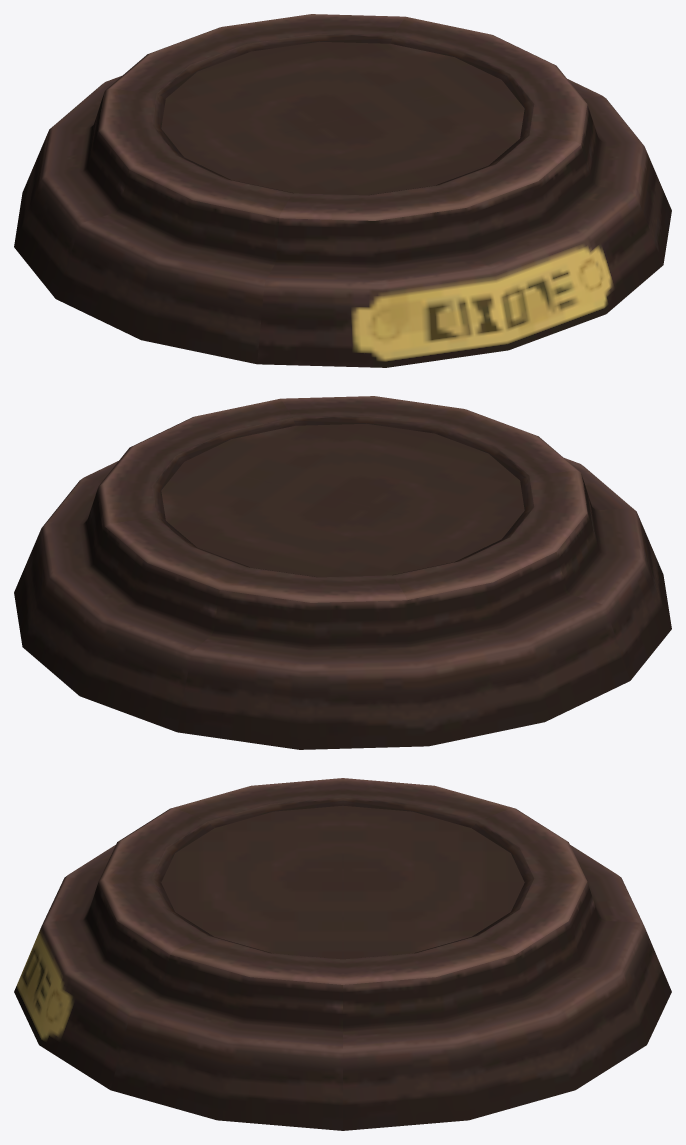
File: Pedestal.obj
3 renders of one model, top to bottom at view 1: azimuth 30°, elevation 25°; view 2: azimuth 150°, elevation 25°; view 3: azimuth 270°, elevation 25°, orthographic.
Visible parts, largest first — view 1: Pedestal__MI_Pedestal_01; view 2: Pedestal__MI_Pedestal_01; view 3: Pedestal__MI_Pedestal_01.
Part boxes in pixels (bbox=[...]): Pedestal__MI_Pedestal_01: bbox=[14, 14, 671, 367]; Pedestal__MI_Pedestal_01: bbox=[14, 396, 671, 749]; Pedestal__MI_Pedestal_01: bbox=[14, 778, 671, 1130].
Bounding box in the file's own units: 1.34 × 0.2539 × 1.34.
